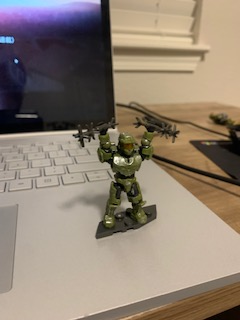chief: (95, 119, 155, 231)
spartan: (93, 117, 153, 229)
up: (95, 122, 155, 177)
